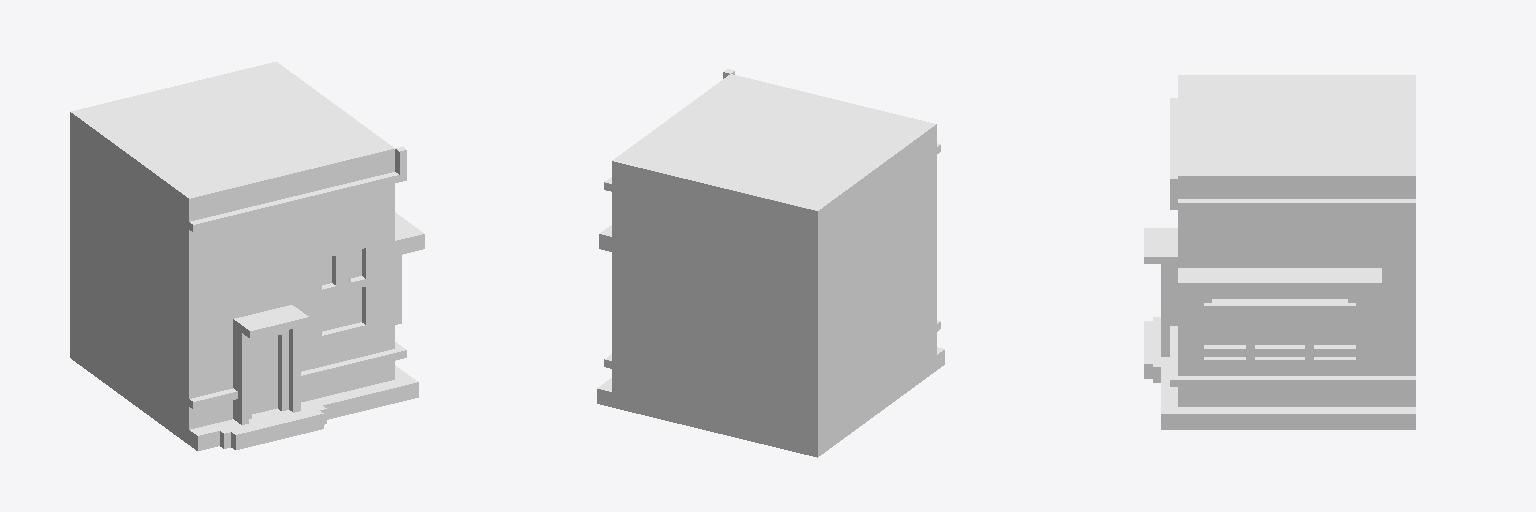
The model's file is tile_1_left_nr_corner.obj.
The picture shows the model from 3 angles: view 1: azimuth 30°, elevation 25°; view 2: azimuth 150°, elevation 25°; view 3: azimuth 270°, elevation 25°; orthographic projection.
Parts seen in each view (by area): view 1: object 1; view 2: object 1; view 3: object 1.
Boxes of the visible parts, x1,y1,x2,y2 form: object 1: [70, 62, 424, 450]; object 1: [597, 69, 944, 457]; object 1: [1144, 75, 1415, 429].
Bounding box in the file's own units: 3.2 × 3.2 × 3.2.